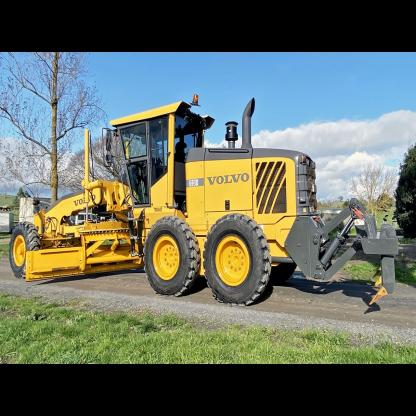bull_dozer/loader/grader: (6, 98, 399, 310)
